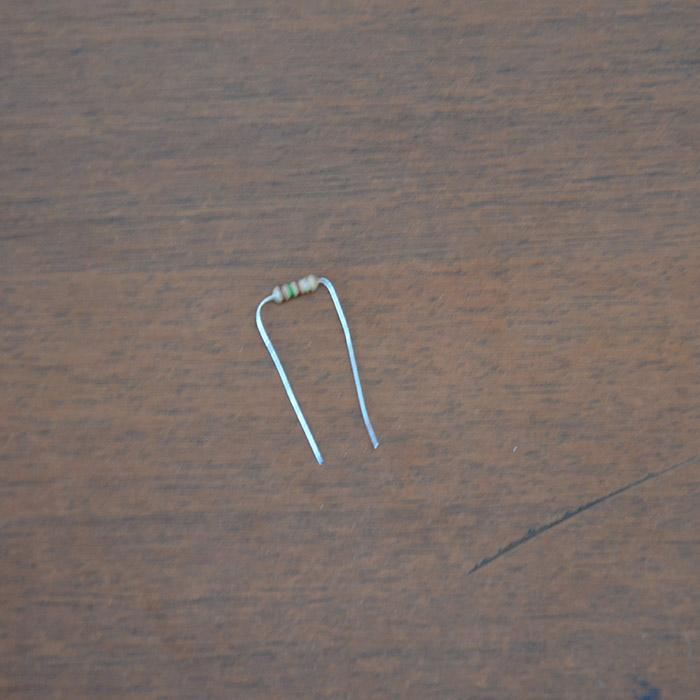resistor: (270, 274, 319, 305)
